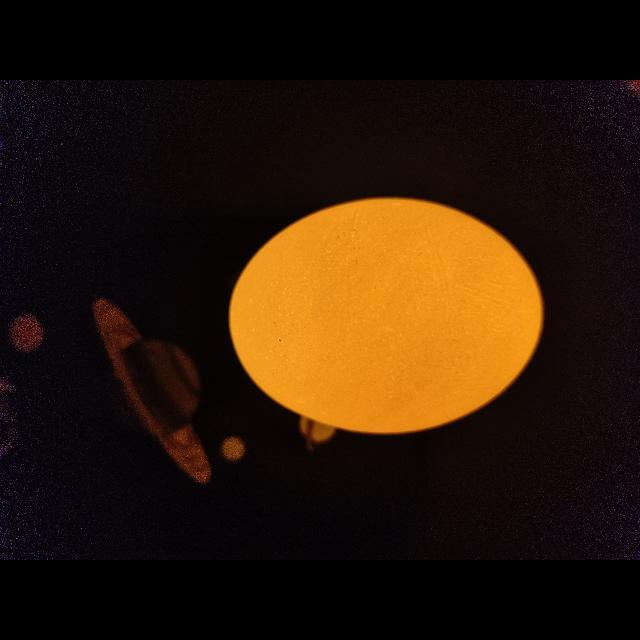AA - Premium: (229, 198, 544, 434)
